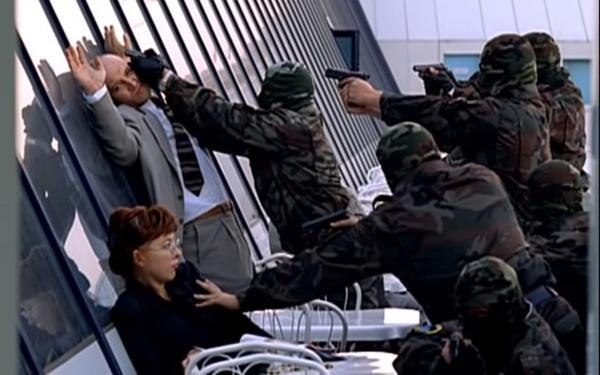Gun: (304, 209, 353, 231), (326, 66, 367, 83), (412, 58, 448, 76), (126, 48, 154, 64)
